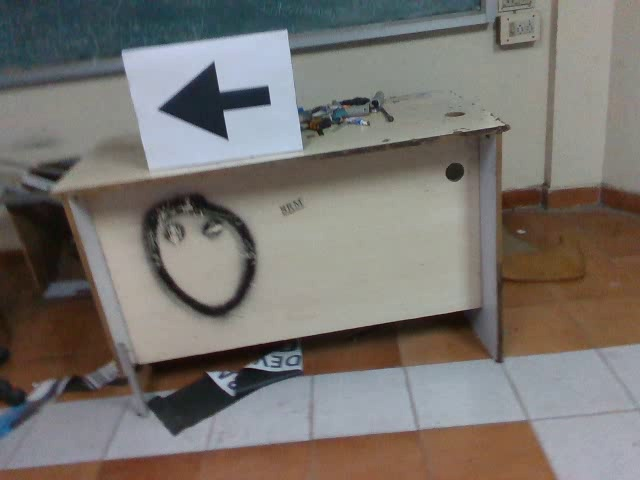Left: (149, 56, 275, 146)
